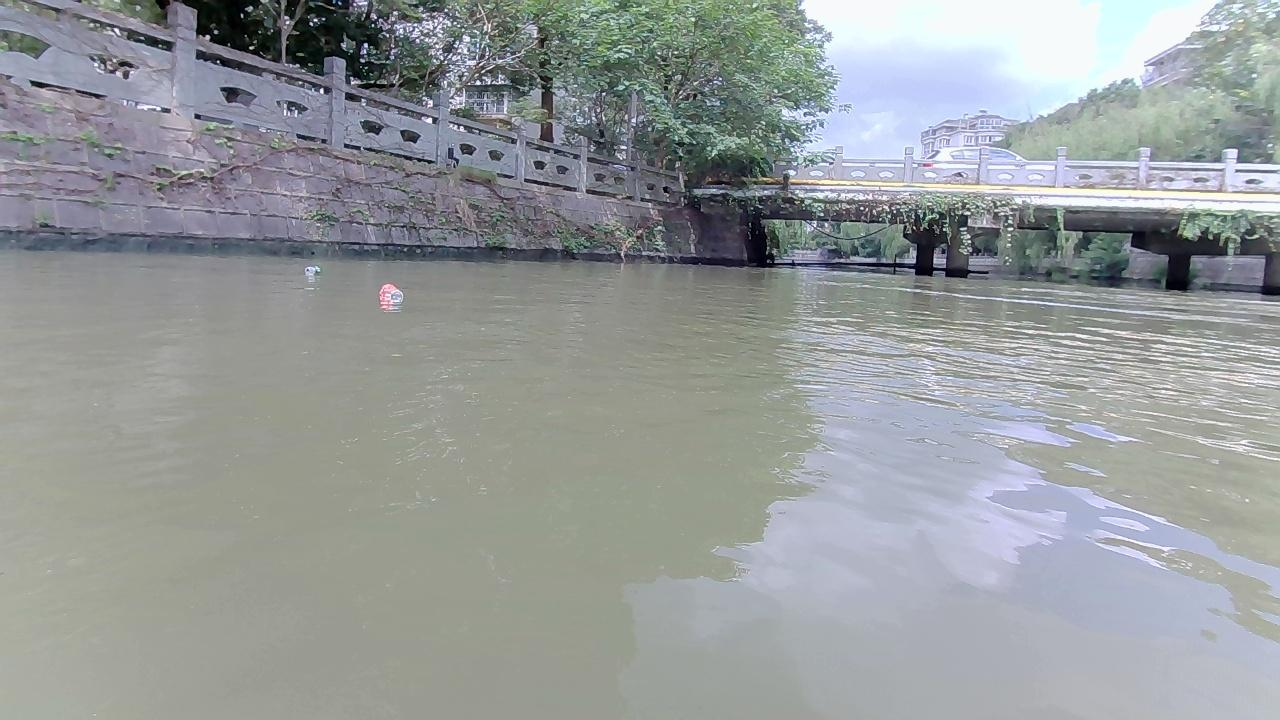bottle: (378, 281, 404, 297), (303, 264, 322, 273)
